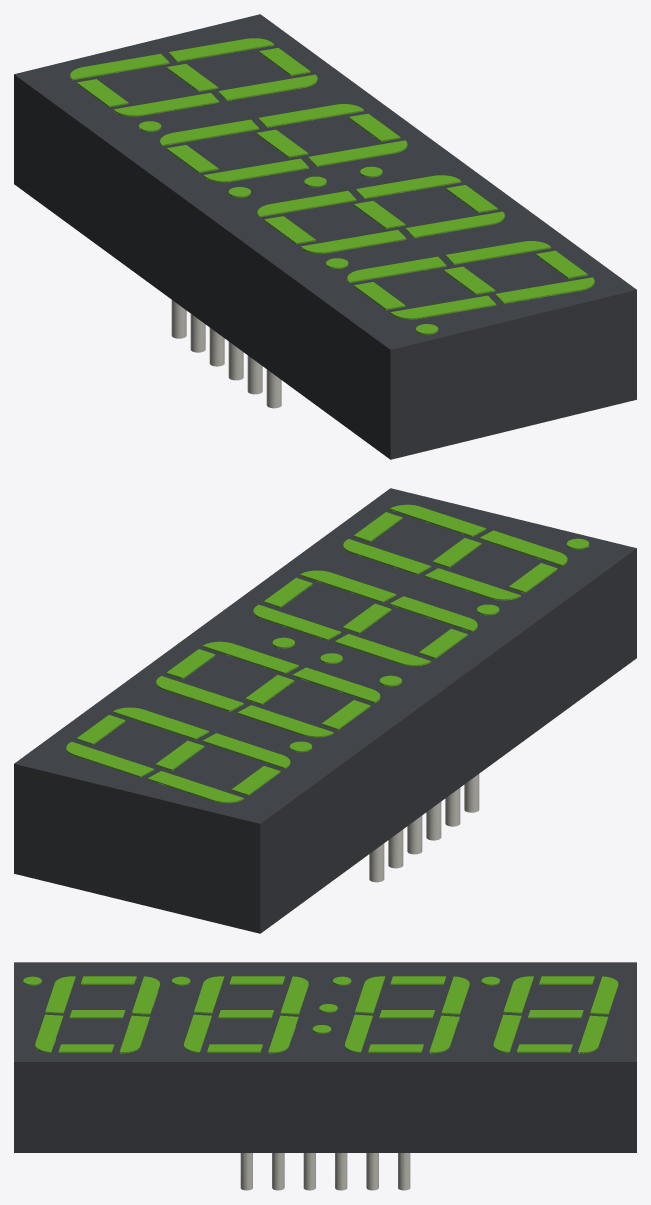
The model's file is kc-cc56-12gwa.glb.
3 renders of one model, top to bottom at view 1: azimuth 30°, elevation 25°; view 2: azimuth 150°, elevation 25°; view 3: azimuth 270°, elevation 25°, orthographic. The views are drawn at different scales.
Parts seen in each view (by area): view 1: 0.08333333333333333_0.08333333333333333_0.08333333333333333_, 0.16666666666666666_0.4166666666666667_0_0, 0.6666666666666666_0.6666666666666666_0.5833333333333334_0.8; view 2: 0.08333333333333333_0.08333333333333333_0.08333333333333333_, 0.16666666666666666_0.4166666666666667_0_0, 0.6666666666666666_0.6666666666666666_0.5833333333333334_0.8; view 3: 0.08333333333333333_0.08333333333333333_0.08333333333333333_, 0.16666666666666666_0.4166666666666667_0_0, 0.6666666666666666_0.6666666666666666_0.5833333333333334_0.8.
Part boxes in pixels (x1,y1,x2,y2): 0.08333333333333333_0.08333333333333333_0.08333333333333333_: (14,14,636,459); 0.16666666666666666_0.4166666666666667_0_0: (70,38,594,334); 0.6666666666666666_0.6666666666666666_0.5833333333333334_0.8: (171,300,281,408); 0.08333333333333333_0.08333333333333333_0.08333333333333333_: (14,488,636,933); 0.16666666666666666_0.4166666666666667_0_0: (66,504,589,803); 0.6666666666666666_0.6666666666666666_0.5833333333333334_0.8: (369,774,479,882); 0.08333333333333333_0.08333333333333333_0.08333333333333333_: (14,962,636,1152); 0.16666666666666666_0.4166666666666667_0_0: (23,976,618,1053); 0.6666666666666666_0.6666666666666666_0.5833333333333334_0.8: (240,1153,410,1190).
Bounding box in the file's own units: 1.9 × 1.22 × 5.03.
